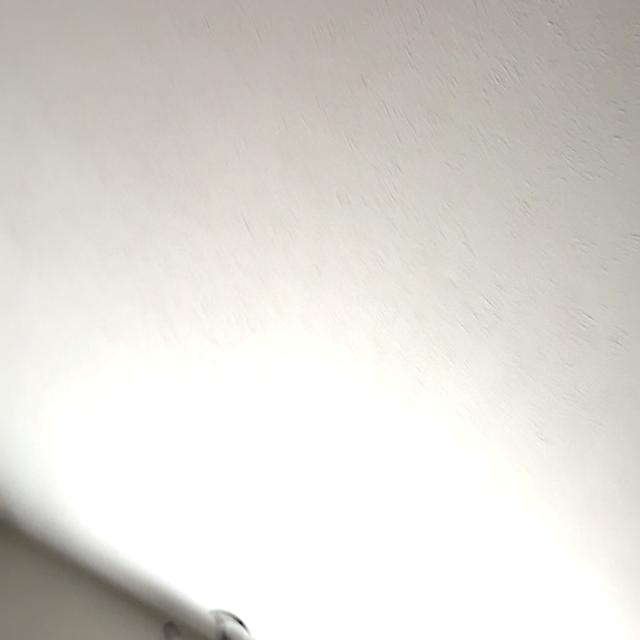drone: (148, 588, 259, 640)
